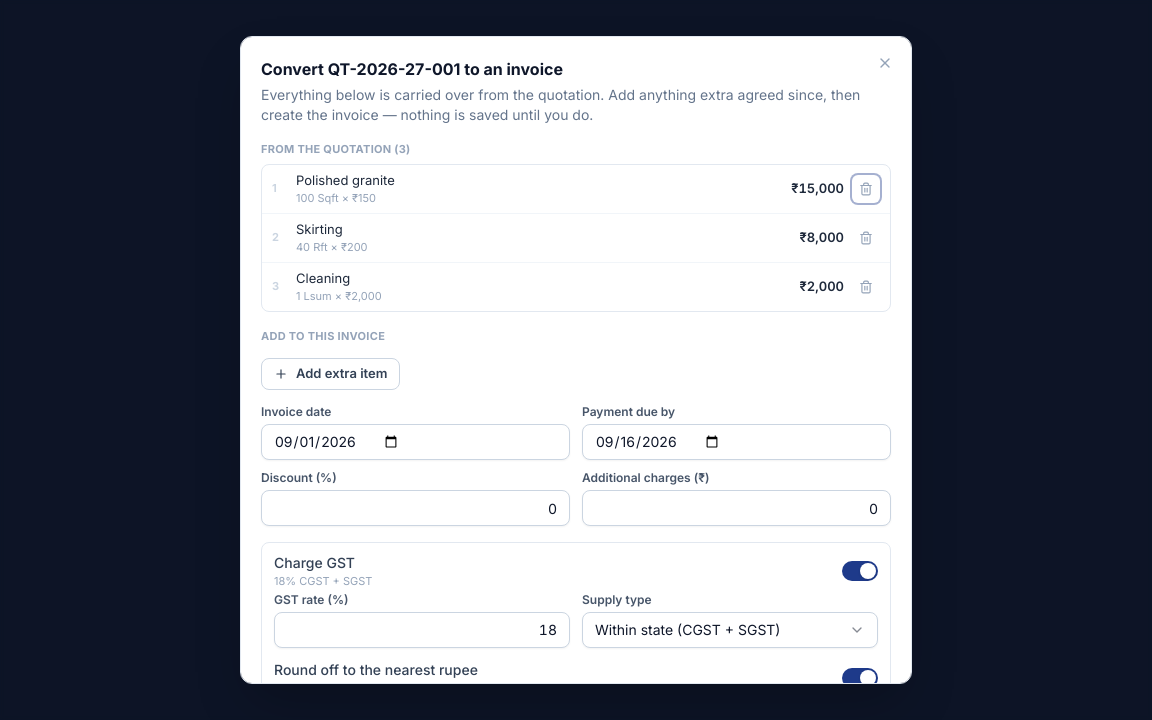
Test case: ConvertToInvoiceDialog › drops a line the user removes, and can put it back
expect the text "Polished granite" is shown: met, box [296, 172, 395, 188]
Click the button named "Do not bill this line" in the row of "Polished granite" at (866, 188), box [852, 174, 880, 202]
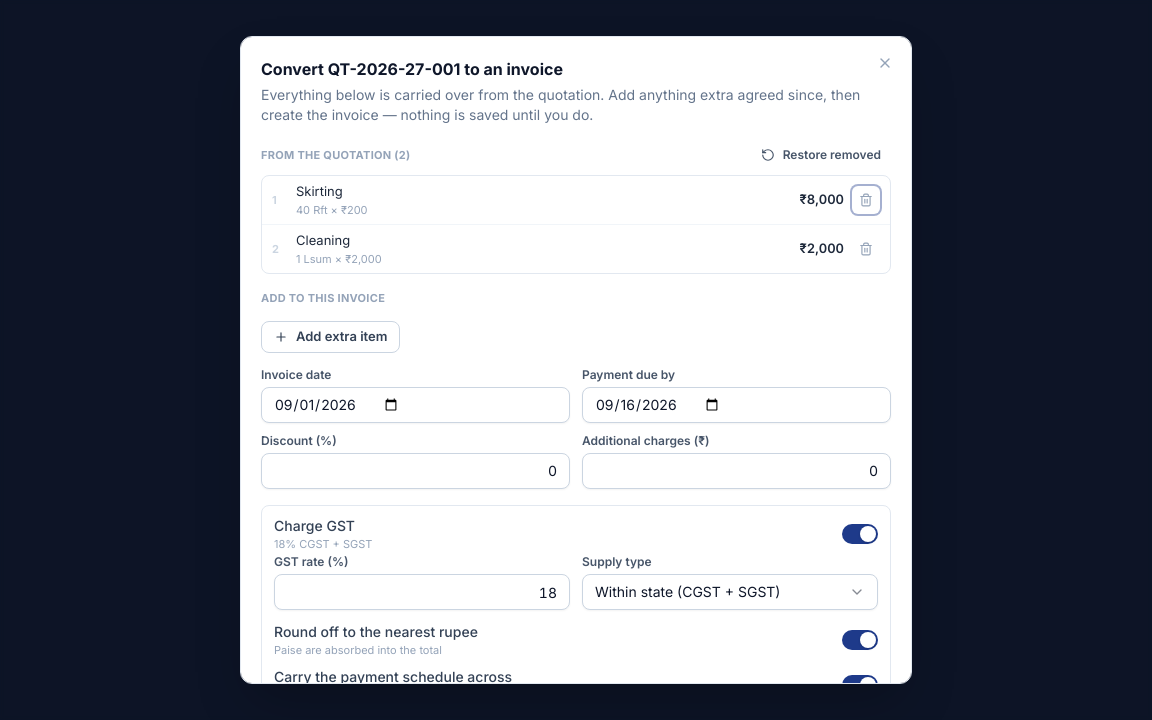
expect the heading "From the quotation (2)" is shown: met, box [261, 147, 410, 163]
expect the text "Polished granite" is gone: met
Click the button "Restore removed" at (821, 155), box [751, 141, 891, 169]
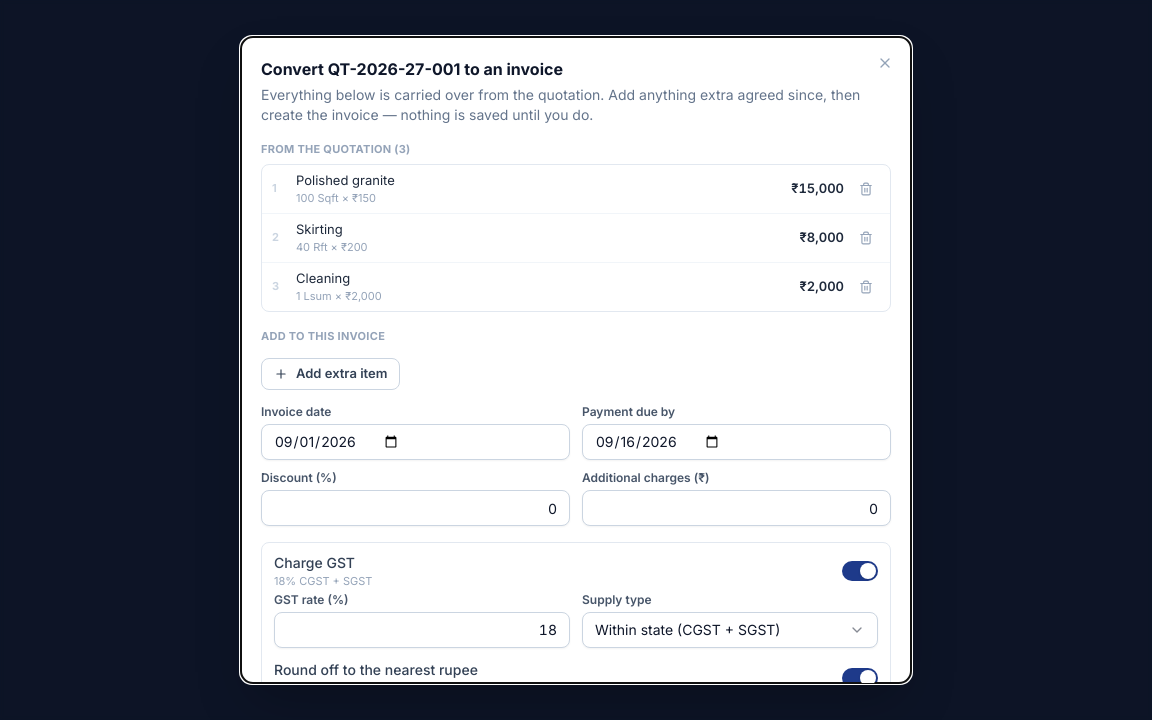
expect the heading "From the quotation (3)" is shown: met, box [261, 141, 410, 158]
